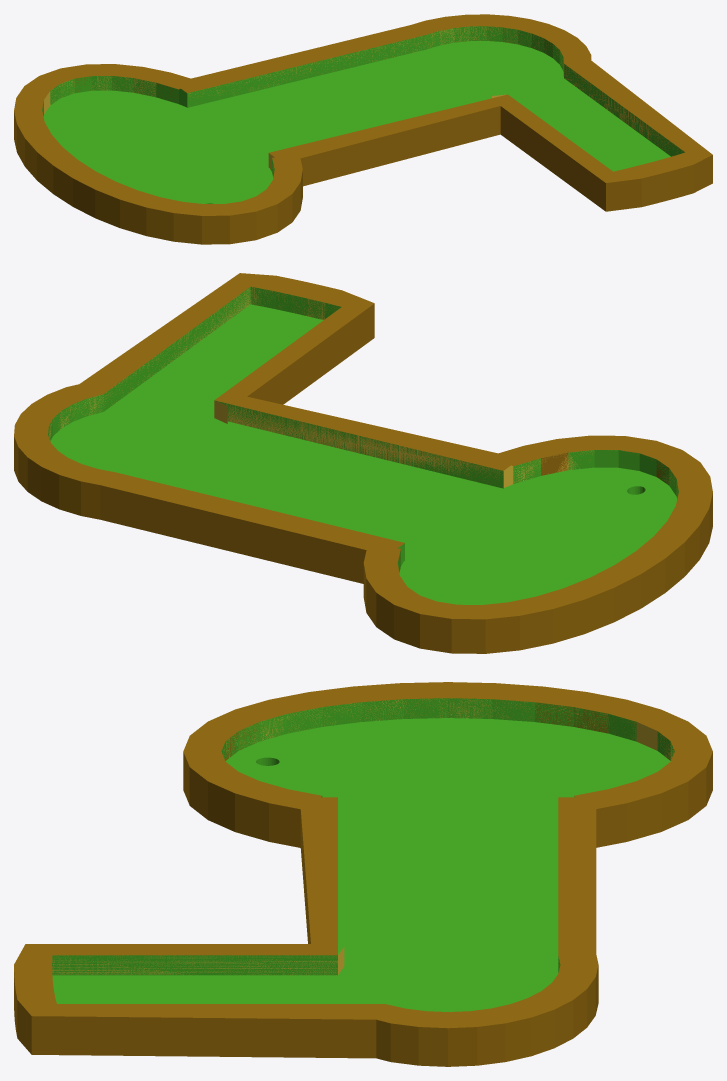
File: lvl5.glb
The picture shows the model from 3 angles, top to bottom: view 1: azimuth 30°, elevation 25°; view 2: azimuth 150°, elevation 25°; view 3: azimuth 270°, elevation 25°; orthographic projection. The views are drawn at different scales.
Visible parts, largest first — view 1: Circle.001_0, Circle.001_1, Circle.001_2; view 2: Circle.001_0, Circle.001_1, Circle.001_2; view 3: Circle.001_0, Circle.001_1, Circle.001_2.
Part boxes in pixels (bbox=[...]): Circle.001_0: bbox=[42, 26, 684, 204]; Circle.001_1: bbox=[14, 14, 712, 244]; Circle.001_2: bbox=[43, 26, 682, 171]; Circle.001_0: bbox=[48, 287, 678, 604]; Circle.001_1: bbox=[14, 273, 712, 653]; Circle.001_2: bbox=[48, 287, 676, 494]; Circle.001_0: bbox=[52, 698, 674, 1011]; Circle.001_1: bbox=[14, 682, 712, 1066]; Circle.001_2: bbox=[52, 698, 673, 975].
Bounding box in the file's own units: 36.67 × 2.18 × 31.29.
